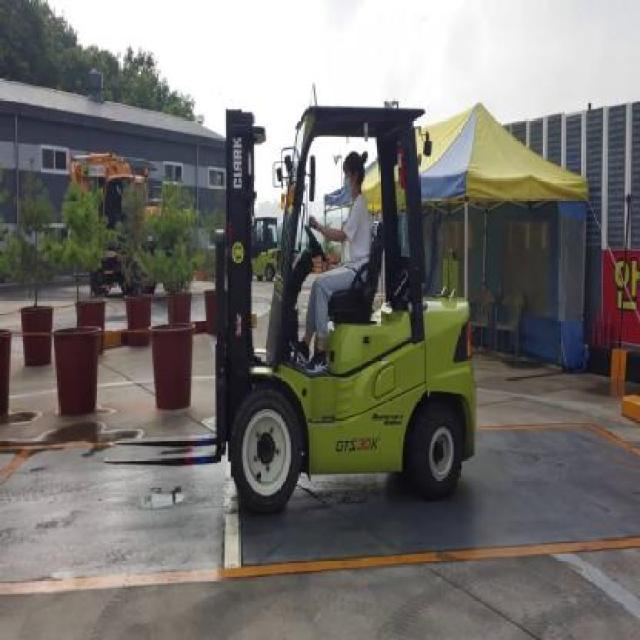forklift: (216, 101, 482, 517)
